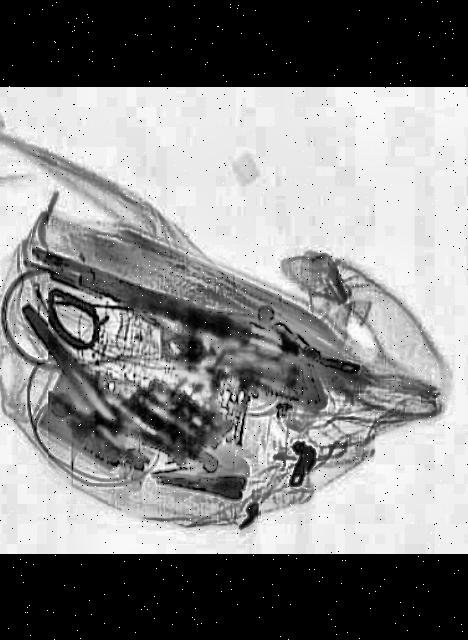Pliers: (14, 296, 136, 434)
